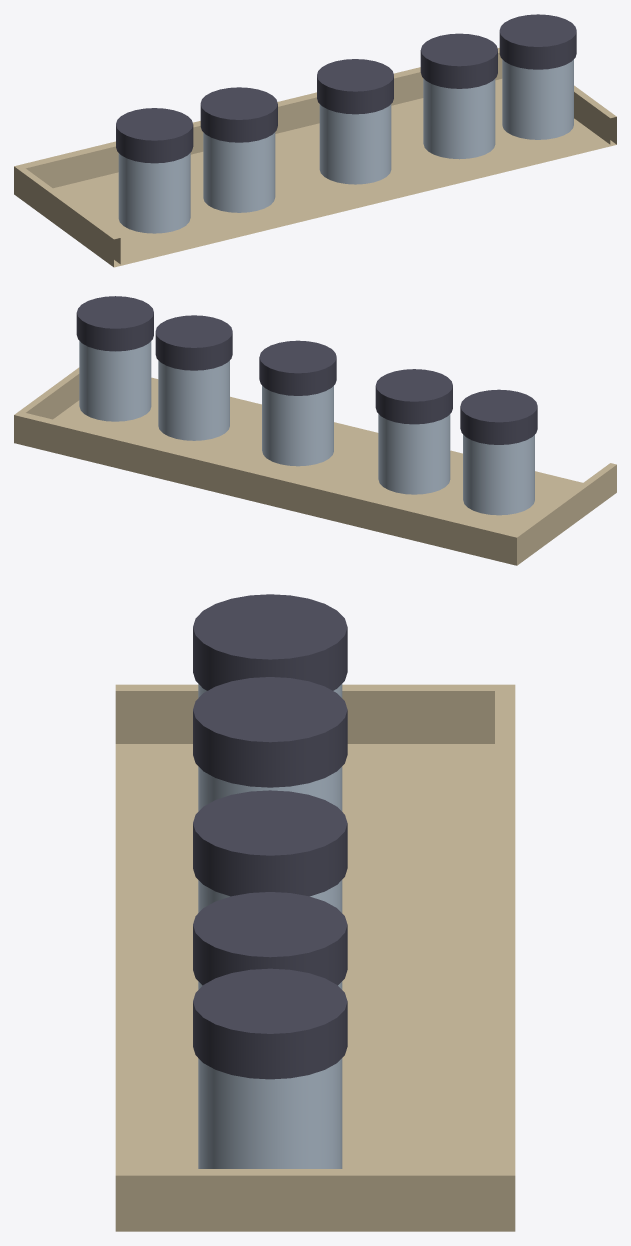
The model's file is condimentos.fbx.
3 renders of one model, top to bottom at view 1: azimuth 30°, elevation 25°; view 2: azimuth 150°, elevation 25°; view 3: azimuth 270°, elevation 25°, orthographic. The views are drawn at different scales.
Parts seen in each view (by area): view 1: condimentos; view 2: condimentos; view 3: condimentos.
Boxes of the visible parts, x1=… form: condimentos: x1=14, y1=14, x2=616, y2=267; condimentos: x1=14, y1=296, x2=616, y2=565; condimentos: x1=115, y1=594, x2=515, y2=1231.
Bounding box in the file's own units: 110 × 20.04 × 38.01.
